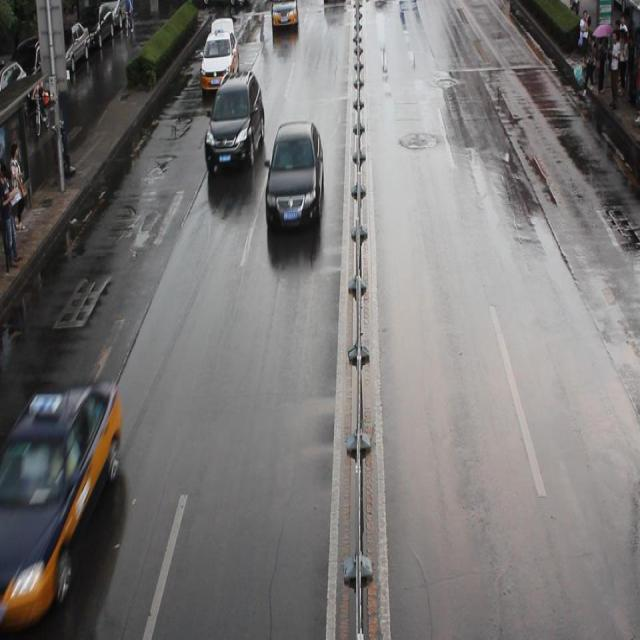car: (1, 379, 121, 607), (265, 120, 324, 231), (203, 72, 266, 170), (200, 31, 239, 92), (270, 1, 297, 30), (323, 1, 345, 7)
